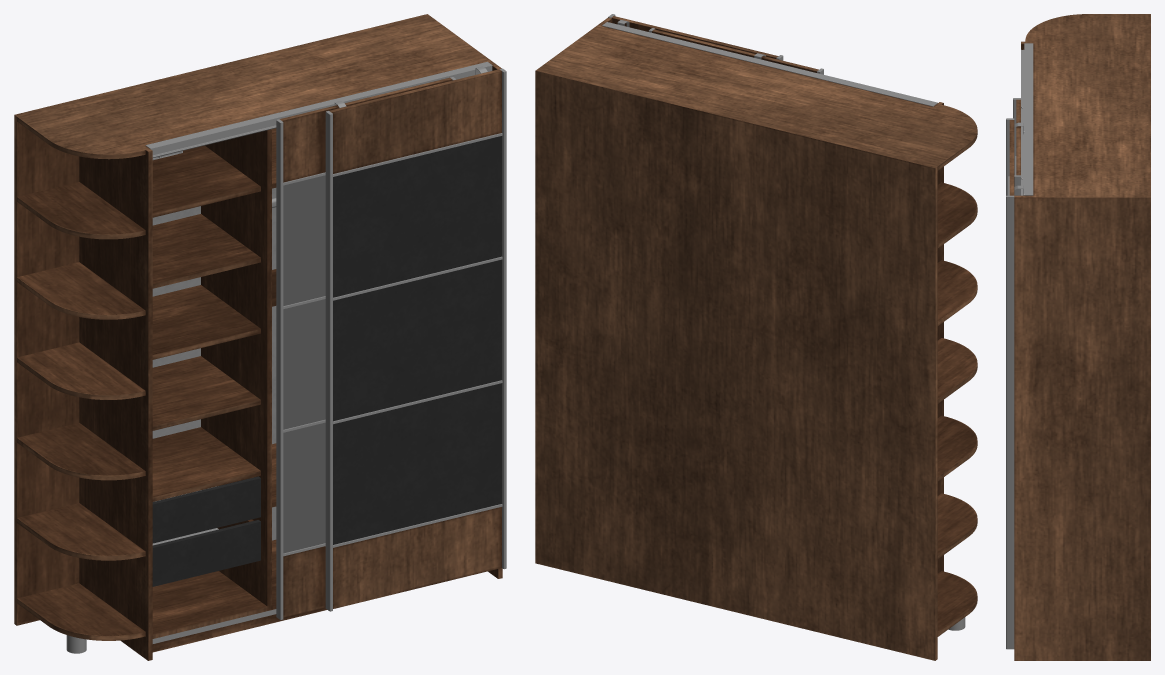
Rendered from modern_wooden_wardrobe.glb.
3 renders of one model, left to right at view 1: azimuth 30°, elevation 25°; view 2: azimuth 150°, elevation 25°; view 3: azimuth 270°, elevation 25°, orthographic. The views are drawn at different scales.
Parts seen in each view (by area): view 1: Wardrobe, WardrobeDoor2, WardrobeDoor1, WardrobeDrawer2, WardrobeDrawer1; view 2: Wardrobe, WardrobeDoor2, WardrobeDoor1; view 3: Wardrobe, WardrobeDoor2, WardrobeDoor1.
Part boxes in pixels (left/top/right/bottom): Wardrobe: left=14, top=14, right=502, bottom=660; WardrobeDoor2: left=325, top=66, right=506, bottom=611; WardrobeDoor1: left=276, top=77, right=456, bottom=619; WardrobeDrawer2: left=152, top=519, right=260, bottom=586; WardrobeDrawer1: left=152, top=476, right=260, bottom=543; Wardrobe: left=535, top=17, right=977, bottom=660; WardrobeDoor2: left=608, top=14, right=783, bottom=60; WardrobeDoor1: left=648, top=28, right=823, bottom=74; Wardrobe: left=1014, top=14, right=1150, bottom=660; WardrobeDoor2: left=1006, top=118, right=1024, bottom=649; WardrobeDoor1: left=1013, top=98, right=1022, bottom=195.
Bounding box in the file's own units: 1.89 × 2.23 × 0.6283.
Materials: 5 (5 with a texture image).
